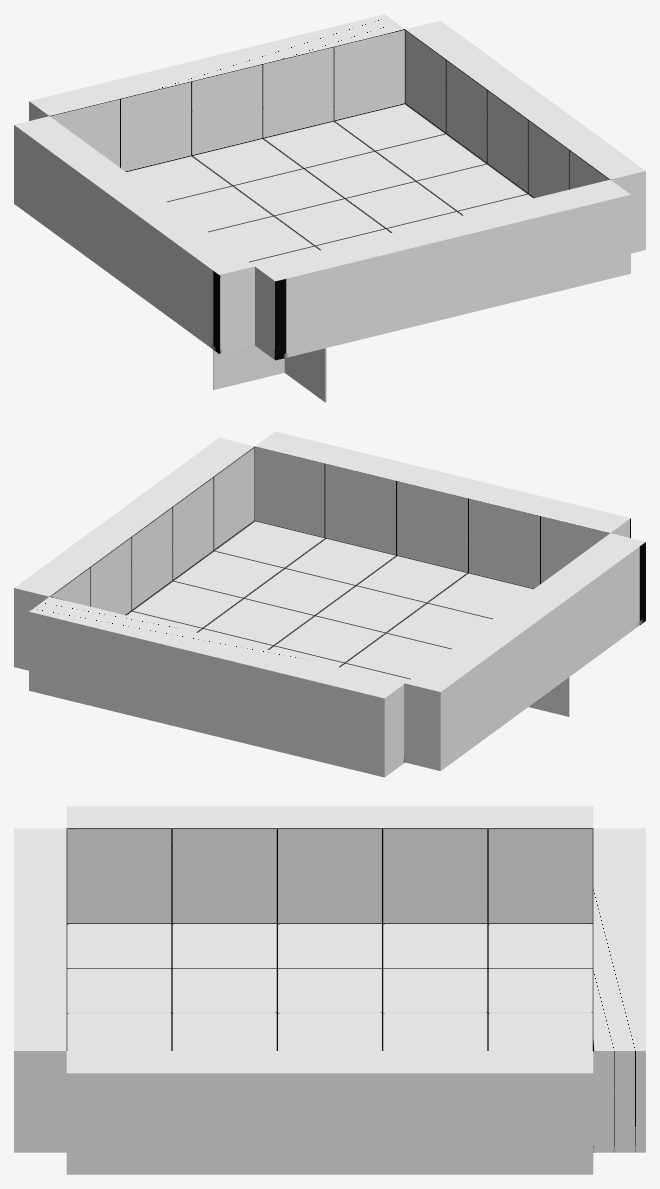
The model's file is Stage1-2.gltf.
The picture shows the model from 3 angles, top to bottom: view 1: azimuth 30°, elevation 25°; view 2: azimuth 150°, elevation 25°; view 3: azimuth 270°, elevation 25°; orthographic projection. The views are drawn at different scales.
Parts seen in each view (by area): view 1: 立方体, 立方体.002, 立方体.001, 立方体.003, 立方体.004, 立方体.009, 立方体.007, 立方体.010, 立方体.006; view 2: 立方体, 立方体.001, 立方体.002, 立方体.003, 立方体.004, 立方体.008, 立方体.006, 立方体.009; view 3: 立方体, 立方体.003, 立方体.004, 立方体.001, 立方体.002, 立方体.005.
Part boxes in pixels (x1=…): 立方体: x1=126, y1=104, x2=533, y2=266; 立方体.002: x1=255, y1=179, x2=630, y2=355; 立方体.001: x1=29, y1=14, x2=404, y2=171; 立方体.003: x1=14, y1=116, x2=254, y2=349; 立方体.004: x1=405, y1=20, x2=645, y2=248; 立方体.009: x1=213, y1=345, x2=284, y2=389; 立方体.007: x1=255, y1=269, x2=630, y2=360; 立方体.010: x1=284, y1=348, x2=326, y2=402; 立方体.006: x1=14, y1=199, x2=254, y2=353; 立方体: x1=126, y1=521, x2=533, y2=683; 立方体.001: x1=29, y1=596, x2=404, y2=772; 立方体.002: x1=255, y1=431, x2=630, y2=588; 立方体.003: x1=405, y1=533, x2=645, y2=766; 立方体.004: x1=14, y1=438, x2=254, y2=665; 立方体.008: x1=29, y1=686, x2=404, y2=777; 立方体.006: x1=405, y1=616, x2=645, y2=770; 立方体.009: x1=529, y1=677, x2=569, y2=716; 立方体: x1=66, y1=924, x2=593, y2=1050; 立方体.003: x1=66, y1=806, x2=593, y2=923; 立方体.004: x1=66, y1=1051, x2=593, y2=1168; 立方体.001: x1=593, y1=828, x2=645, y2=1146; 立方体.002: x1=14, y1=828, x2=66, y2=1146; 立方体.005: x1=66, y1=1168, x2=593, y2=1174.
Bounding box in the file's own units: 24 × 8.25 × 24.
Materials: 4 (2 with a texture image).
